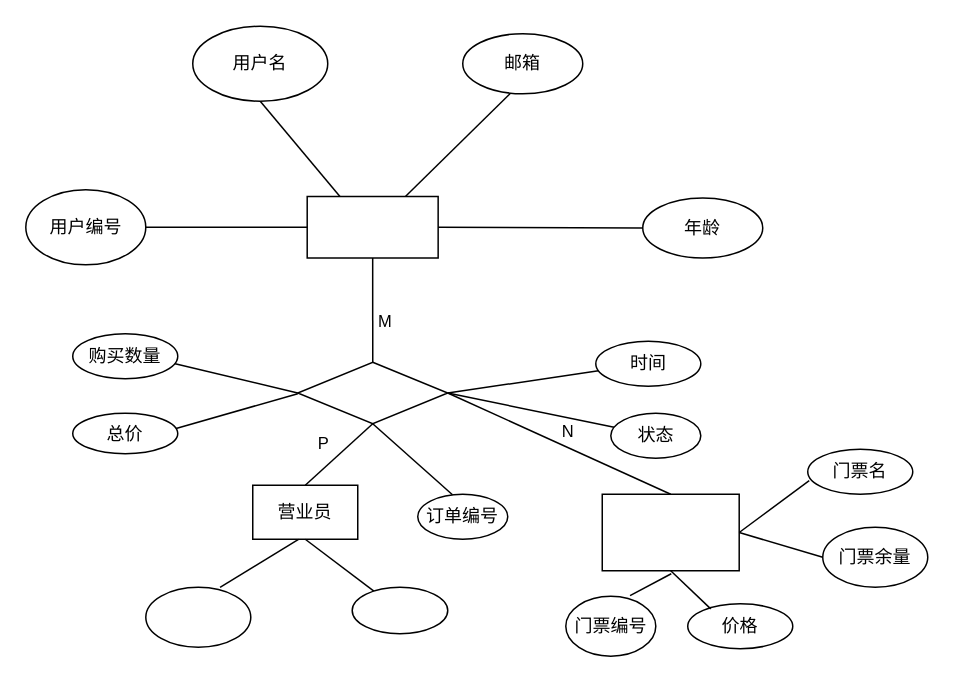
Image size: 956x683. Some labels were removed from this diagram. The centre of each missing label's shape, as x and y in pixels:
姓名: point (399, 610)
用户: point (372, 226)
营业员编号: point (197, 616)
购买: point (372, 392)
门票: point (670, 532)
